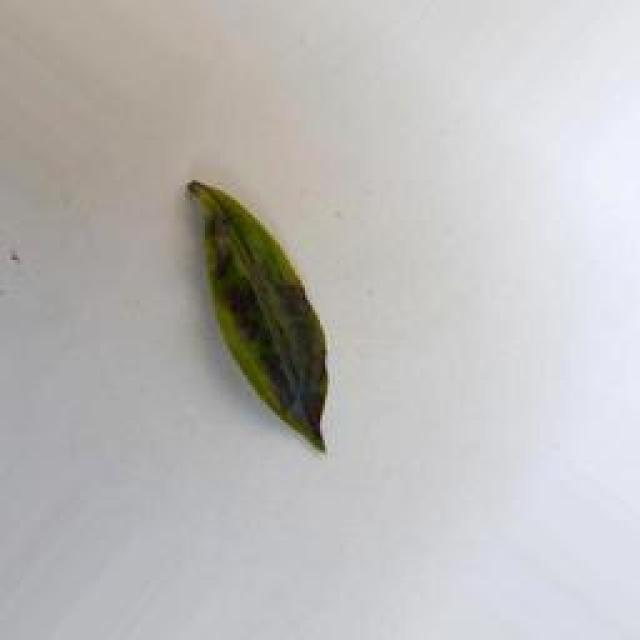Helopeltis: (162, 178, 345, 462)
